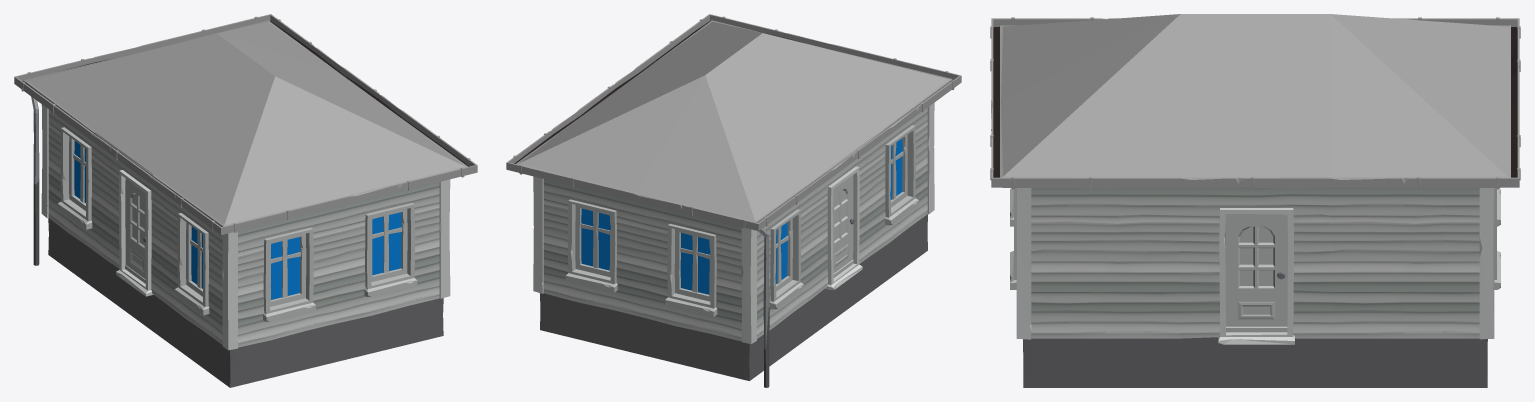
The model's file is SM_Bld_House_Preset_01.fbx.
3 renders of one model, left to right at view 1: azimuth 30°, elevation 25°; view 2: azimuth 150°, elevation 25°; view 3: azimuth 270°, elevation 25°, orthographic. The views are drawn at different scales.
Visible parts, largest first — view 1: SM_Bld_House_Preset_01; view 2: SM_Bld_House_Preset_01; view 3: SM_Bld_House_Preset_01.
Boxes of the visible parts, x1,y1,x2,y2 form: SM_Bld_House_Preset_01: (14,14,477,387); SM_Bld_House_Preset_01: (506,14,961,387); SM_Bld_House_Preset_01: (990,14,1520,387).
Bounding box in the file's own units: 637 × 577 × 887.
